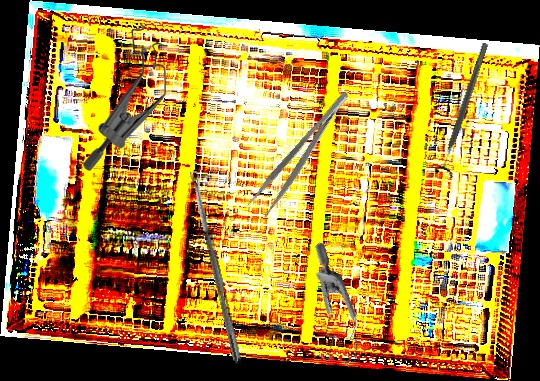Dressing Forceps: (245, 87, 362, 221)
Fixation Ring: (433, 40, 496, 179)
Speculum: (262, 241, 397, 378), (82, 21, 169, 171)
Surgical Spoon: (189, 170, 244, 365)
